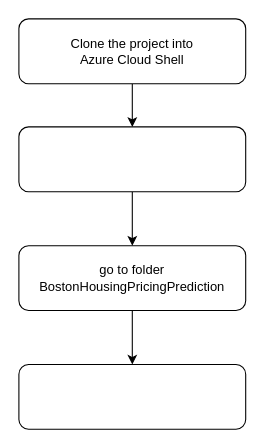
The diagram is 265 pixels wide and 448 high, and some of its shapes have lost their labels. Each missing label, with the centre of its shape:
Run ./make_predict_azure_app.sh: point 132,396
Set Python 3 virtual environment: point 132,159
